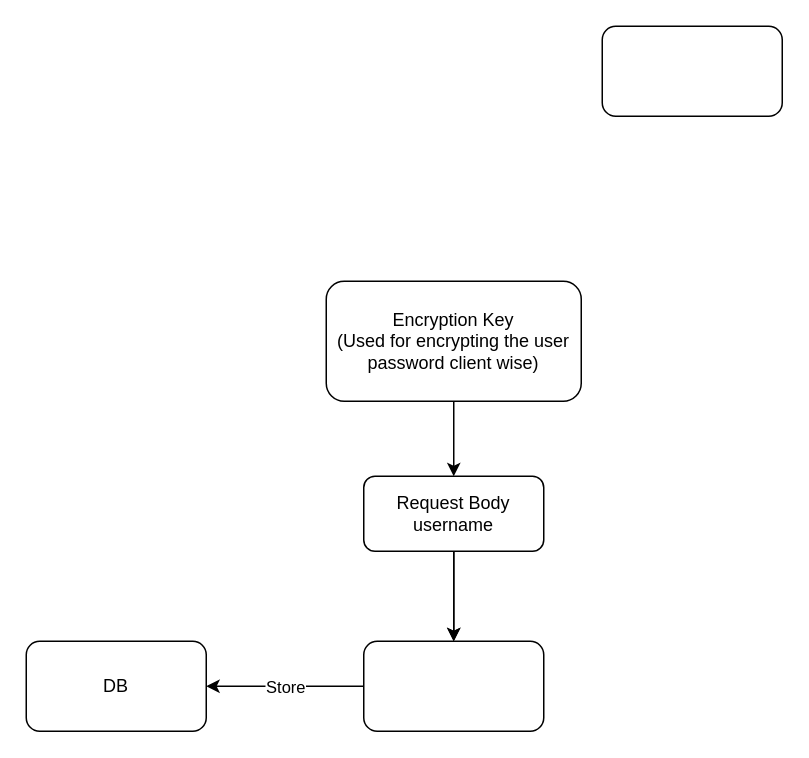
Image size: 809x758. Some labels were removed from this diagram. Here are the shapes that lost their labels. From the top down, the centre of each, then its label:
At point (691, 70): "Backend".
At point (453, 685): "Generate RSA Keypair".
